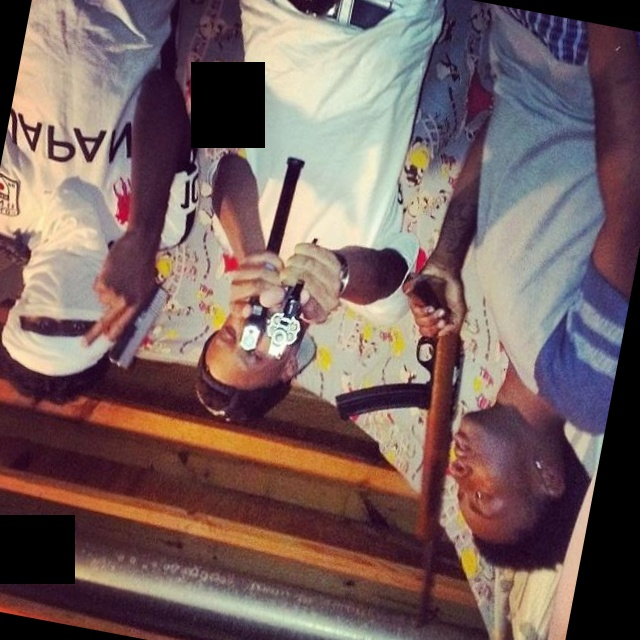gun: (312, 261, 490, 640), (221, 144, 350, 372), (91, 230, 187, 384)
